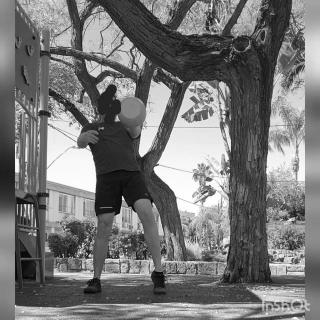kettlebell: (119, 88, 149, 132)
